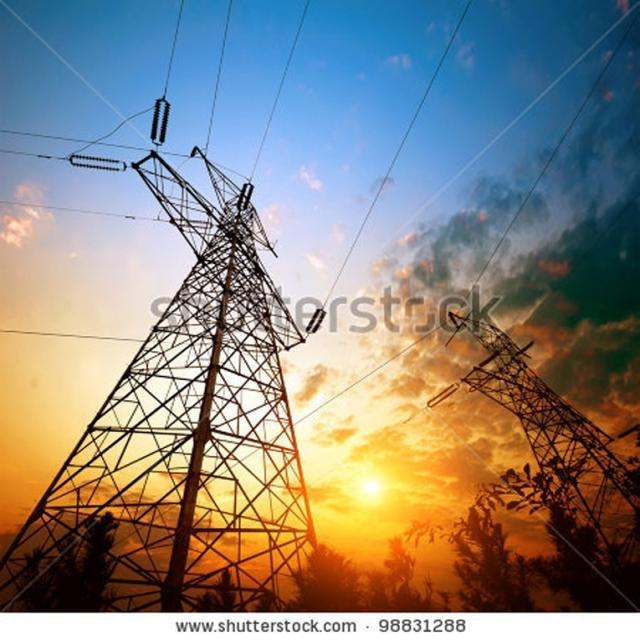non-critical vegetation: (6, 113, 336, 572), (464, 320, 634, 555)
